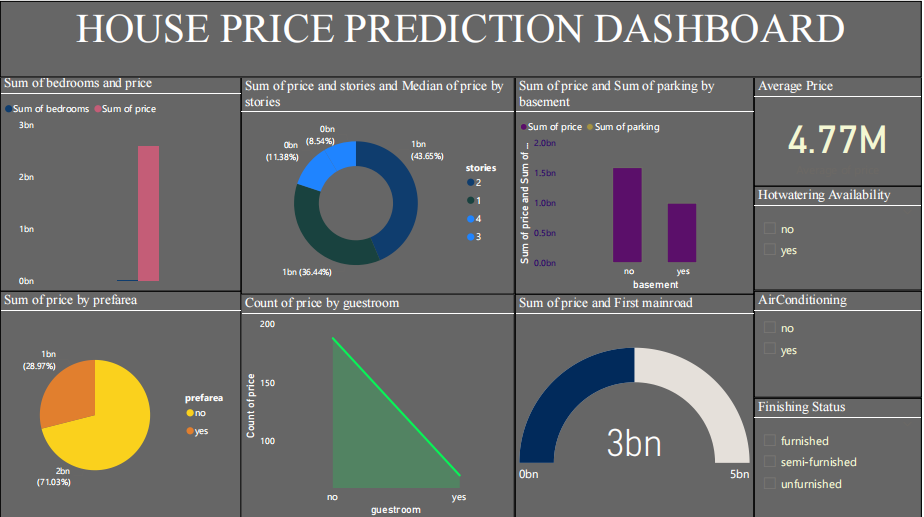

The page's visual inventory and layout, read from the dashboard file:
{"tool":"powerbi","page":{"name":"Page 1","canvas":[1280,720],"ordinal":0},"visuals":[{"type":"clusteredColumnChart","title":"Sum of bedrooms and price","fields":{"Y":["Sum(Housing.bedrooms)","Sum(Housing.price)"]},"box":[0,101.5,334.8,301.5],"z":0},{"type":"areaChart","fields":{"Y":["Count(Housing.price)"],"Category":["Housing.guestroom"]},"box":[334.8,407.6,380.3,312.1],"z":1000},{"type":"pieChart","fields":{"Y":["Sum(Housing.price)"],"Category":["Housing.prefarea"]},"box":[0,403,334.8,316.7],"z":2000},{"type":"lineStackedColumnComboChart","fields":{"Category":["Housing.basement"],"Y":["Sum(Housing.price)","Sum(Housing.parking)"]},"box":[715.2,106.1,331.8,301.5],"z":3000},{"type":"gauge","fields":{"Y":["Sum(Housing.price)"]},"box":[715.2,407.6,331.8,312.1],"z":4000},{"type":"card","title":"Average Price","fields":{"Values":["Avg(Housing.price)"]},"box":[1047,106.1,233.3,151.5],"z":5000},{"type":"slicer","title":"Hotwatering Availability","fields":{"Values":["Housing.hotwaterheating"]},"box":[1047,257.6,233.3,145.5],"z":6000},{"type":"slicer","title":"AirConditioning","fields":{"Values":["Housing.airconditioning"]},"box":[1047,403,233.3,148.5],"z":7000},{"type":"donutChart","title":"Sum of price and stories and Median of price by stories","fields":{"Y":["Sum(Housing.price)"],"Category":["Housing.stories"]},"box":[334.8,106.1,380.3,301.5],"z":8000},{"type":"slicer","title":"Finishing Status","fields":{"Values":["Housing.furnishingstatus"]},"box":[1047,551.5,233.3,168.2],"z":9000},{"type":"textbox","box":[0,0,1280.3,106.1],"z":10000}]}

Visuals, with their boxes in screenshot pixels (x1, y1, x2, y2), scaled from the page's 1280x720 canvas onto the 924x517 screenshot:
"Sum of bedrooms and price" clusteredColumnChart: (0,73,242,289)
areaChart - Count(Housing.price) x Housing.guestroom: (242,293,516,516)
pieChart - Sum(Housing.price) x Housing.prefarea: (0,289,242,516)
lineStackedColumnComboChart - Housing.basement x Sum(Housing.price): (516,76,756,293)
gauge - Sum(Housing.price): (516,293,756,516)
"Average Price" card: (756,76,923,185)
"Hotwatering Availability" slicer: (756,185,923,289)
"AirConditioning" slicer: (756,289,923,396)
"Sum of price and stories and Median of price by stories" donutChart: (242,76,516,293)
"Finishing Status" slicer: (756,396,923,516)
textbox: (0,0,923,76)
